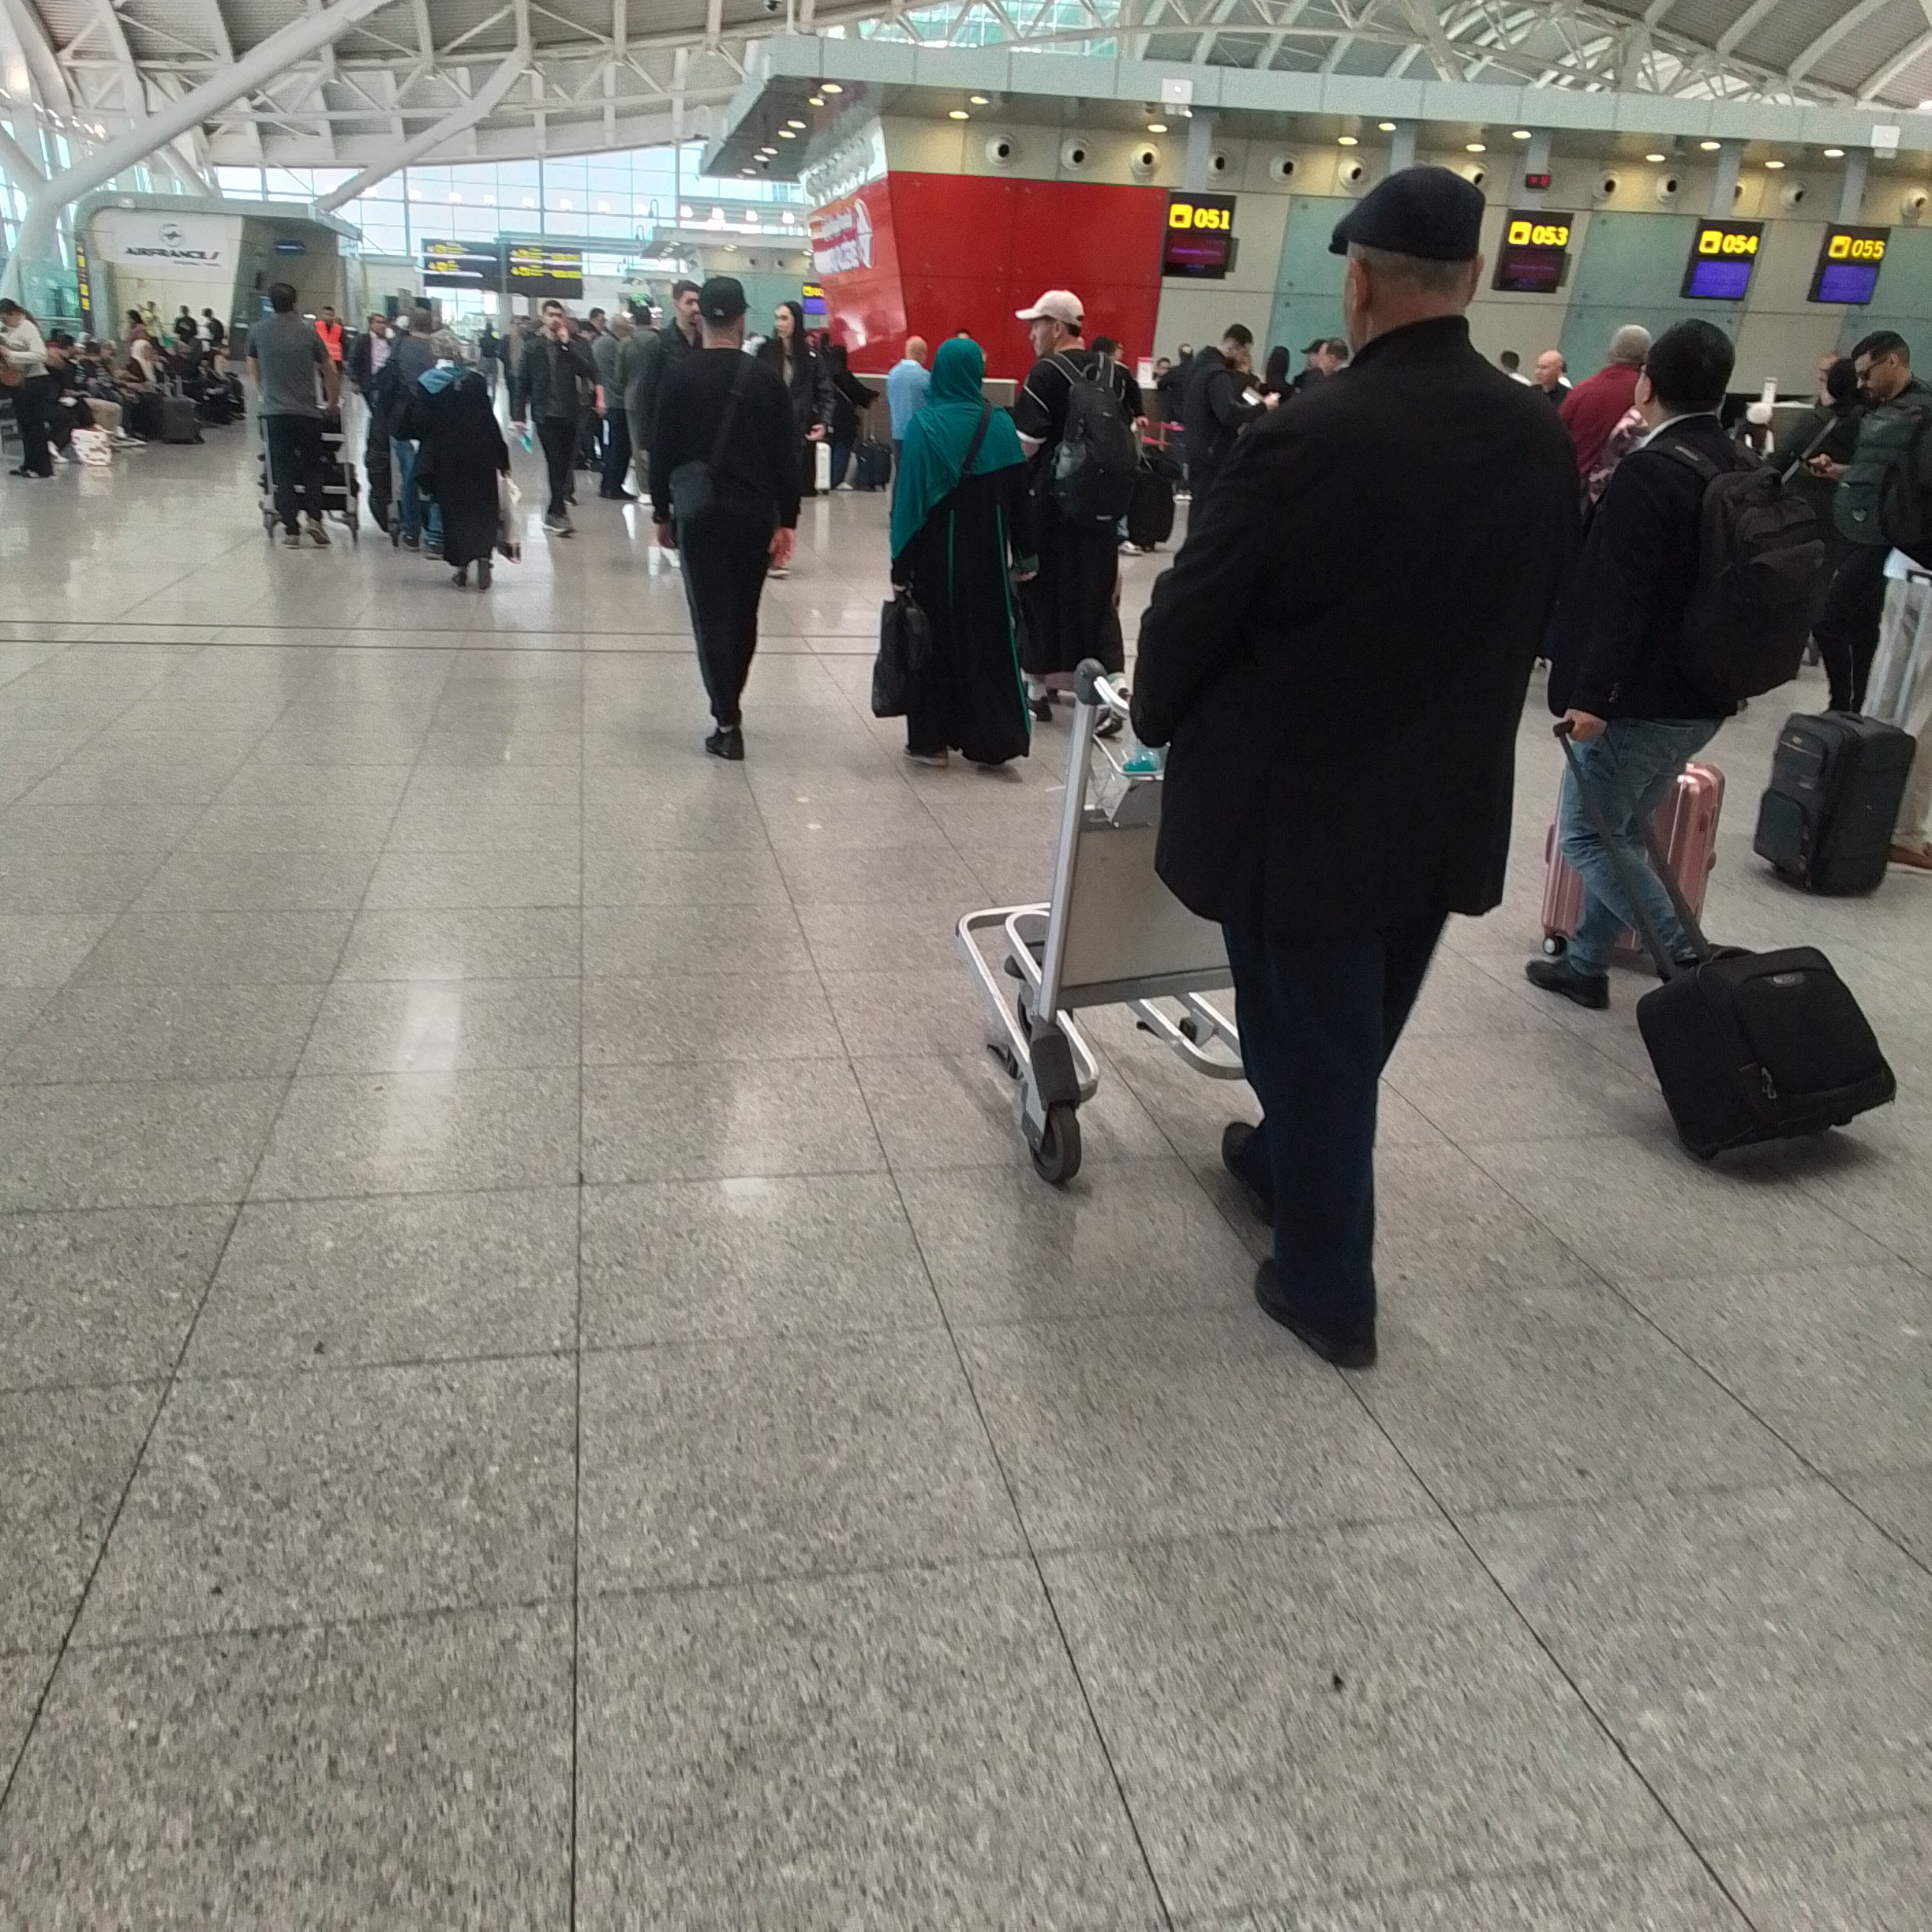airport-trolley: (948, 660, 1330, 1162)
